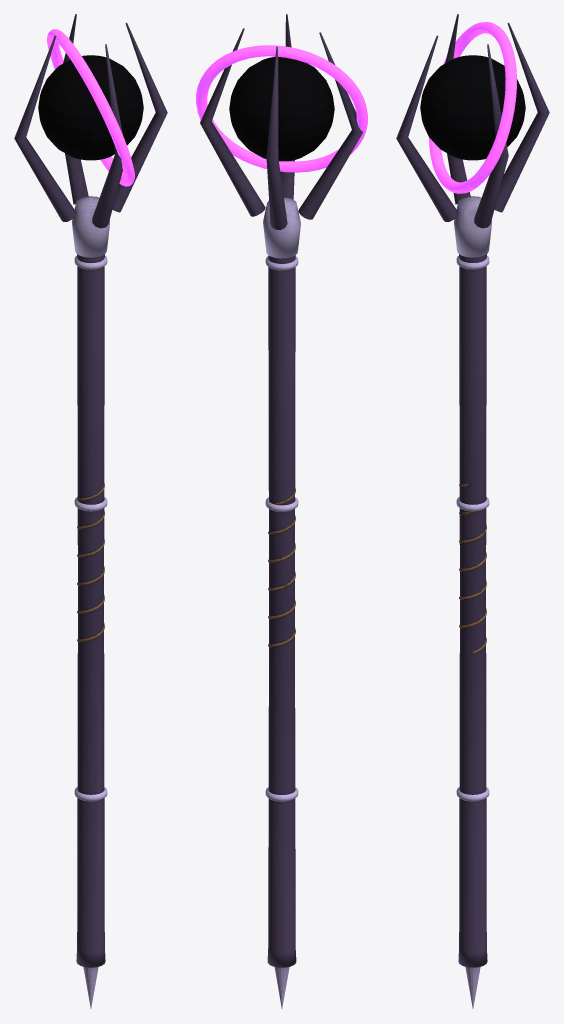
Rendered from arma_lend_cajado_vazio.glb.
The picture shows the model from 3 angles, left to right: view 1: azimuth 90°, elevation 25°; view 2: azimuth 150°, elevation 25°; view 3: azimuth 270°, elevation 25°; orthographic projection.
Parts seen in each view (by area): view 1: arma_lend_cajado_vazio, Torus; view 2: arma_lend_cajado_vazio, Torus; view 3: arma_lend_cajado_vazio, Torus.
Boxes of the visible parts, box(x1,y1,x2,y2) form: arma_lend_cajado_vazio: box(14, 14, 167, 1008); Torus: box(47, 29, 134, 186); arma_lend_cajado_vazio: box(200, 14, 362, 1008); Torus: box(196, 45, 367, 172); arma_lend_cajado_vazio: box(396, 14, 549, 1008); Torus: box(429, 22, 516, 193).
Bounding box in the file's own units: 0.3109 × 2.03 × 0.2878.
Materials: 2 (1 with a texture image).
